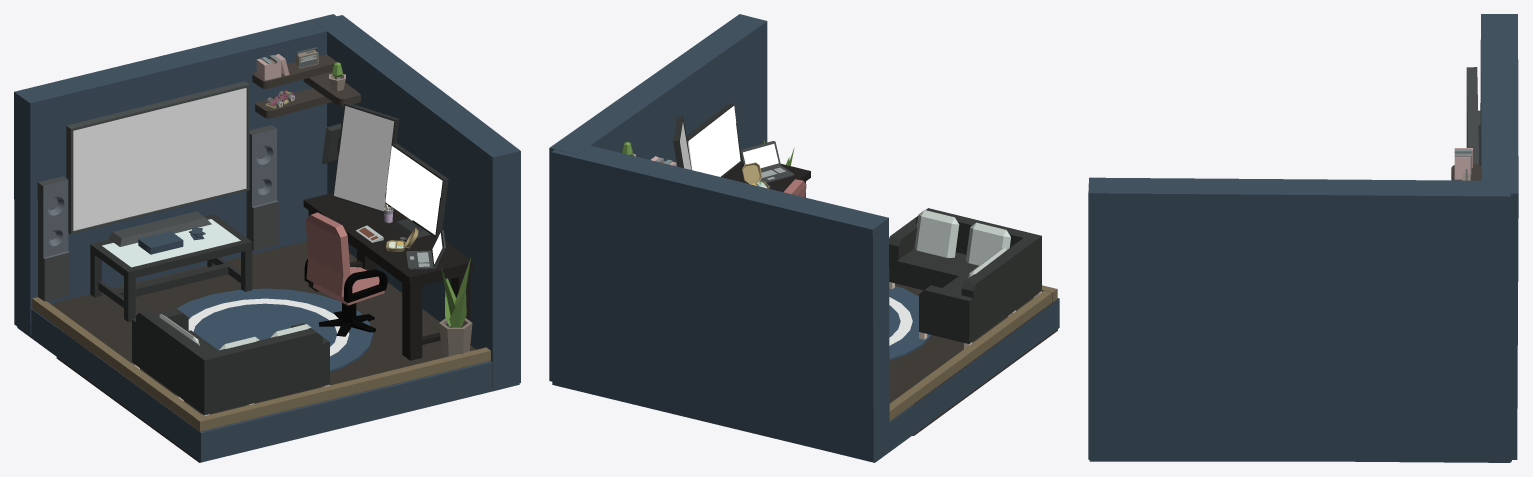
Rendered from SpotifyHouse1.gltf.
3 renders of one model, left to right at view 1: azimuth 30°, elevation 25°; view 2: azimuth 150°, elevation 25°; view 3: azimuth 270°, elevation 25°, orthographic. The views are drawn at different scales.
Parts seen in each view (by area): view 1: Cube__2__1, Cube__1_, Plane.003, Cube_1, loungeSofaCorner, floorCorner, rugRound, sideTable, tableGlass, Plane.001, televisionModern, Cube.003 (+17 smaller); view 2: Cube__2__1, Cube__1_, loungeSofaCorner, Cube_1, Cube.002, Plane, floorCorner, rugRound, pillow, pillow__1_, floorFull, sideTable (+3 smaller); view 3: Cube__1_, Cube__2__1, televisionModern, books__1_.
Boxes of the visible parts, x1,y1,x2,y2 form: Cube__2__1: (14, 14, 336, 335); Cube__1_: (314, 15, 520, 389); Plane.003: (73, 88, 246, 230); Cube_1: (17, 308, 519, 462); loungeSofaCorner: (132, 308, 329, 415); floorCorner: (56, 241, 489, 462); rugRound: (177, 288, 373, 371); sideTable: (303, 193, 473, 360); tableGlass: (90, 214, 252, 322); Plane.001: (334, 106, 394, 211); televisionModern: (66, 81, 249, 246); Cube.003: (195, 347, 490, 431); Cube__2__1: (551, 145, 889, 462); Cube__1_: (549, 14, 767, 381); loungeSofaCorner: (889, 208, 1041, 348); Cube_1: (867, 298, 1059, 462); Cube.002: (889, 290, 1052, 420); Plane: (689, 106, 740, 176); floorCorner: (889, 283, 1057, 435); rugRound: (889, 286, 932, 360); pillow: (914, 210, 959, 257); pillow__1_: (966, 222, 1010, 265); floorFull: (889, 364, 947, 421); sideTable: (722, 162, 810, 197); Cube__1_: (1088, 177, 1511, 462); Cube__2__1: (1480, 14, 1518, 459); televisionModern: (1466, 67, 1478, 164); books__1_: (1454, 148, 1472, 179).
Bounding box in the file's own units: 1.01 × 0.6992 × 1.01.
